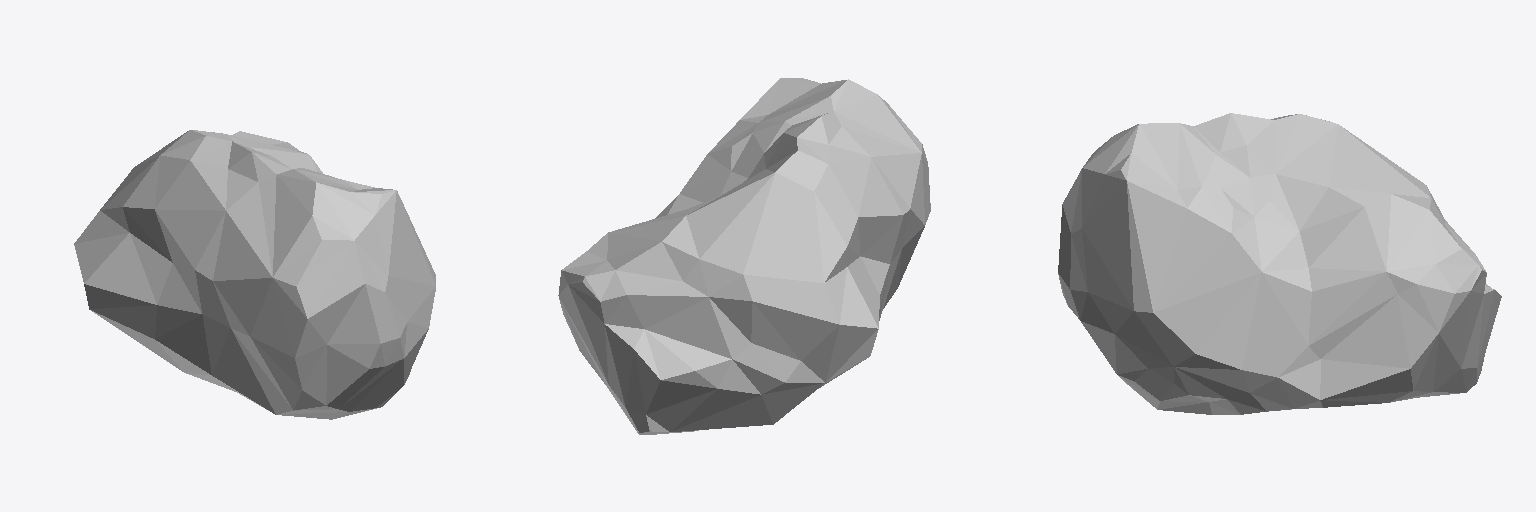
File: rock4.obj
The picture shows the model from 3 angles: view 1: azimuth 30°, elevation 25°; view 2: azimuth 150°, elevation 25°; view 3: azimuth 270°, elevation 25°; orthographic projection.
Parts seen in each view (by area): view 1: rocks_6_05.001; view 2: rocks_6_05.001; view 3: rocks_6_05.001.
Part boxes in pixels (left/top/right/bottom): rocks_6_05.001: left=74, top=130, right=435, bottom=419; rocks_6_05.001: left=558, top=78, right=930, bottom=434; rocks_6_05.001: left=1058, top=113, right=1501, bottom=414.
Bounding box in the file's own units: 3.31 × 2.88 × 4.49.